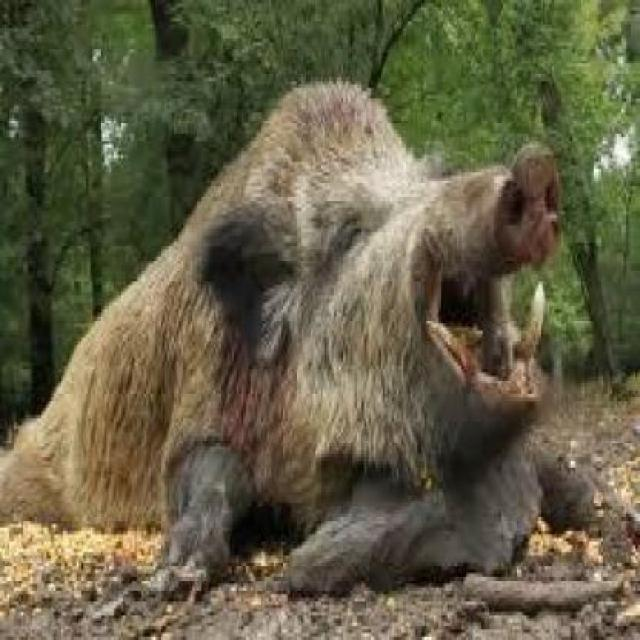wildboar: (0, 71, 568, 566)
